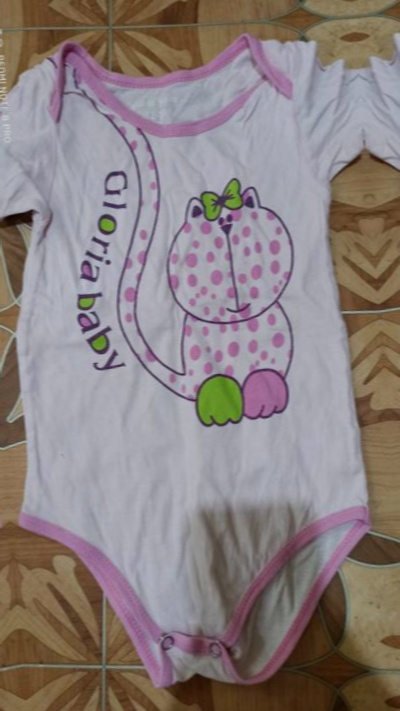Body: (0, 16, 400, 699), (356, 0, 400, 665), (0, 51, 19, 711)
